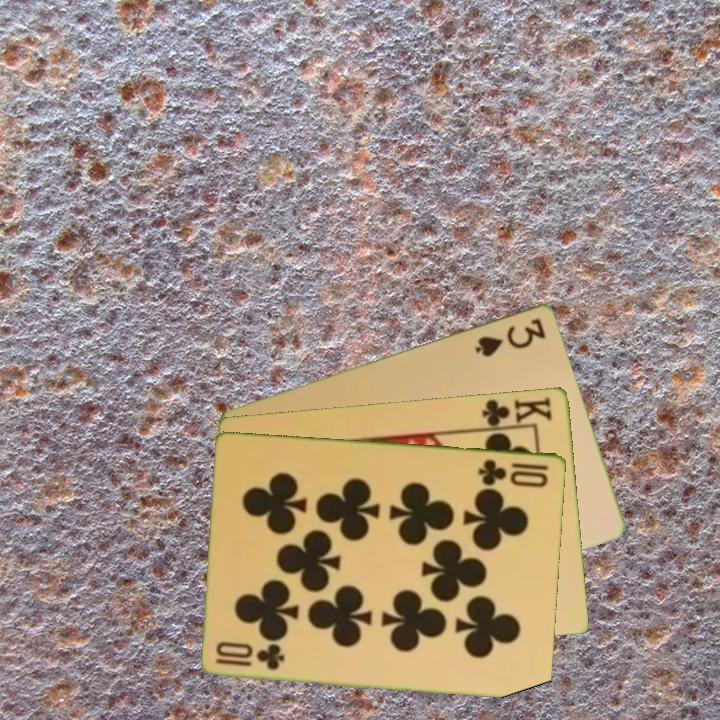10c: (475, 455, 552, 490), (213, 640, 288, 673)
3s: (471, 314, 549, 359)
Kc: (476, 393, 555, 432)
